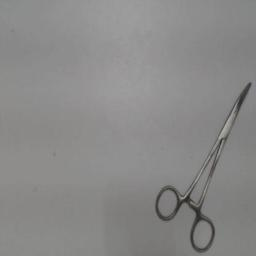Crile Artery Forceps: (153, 76, 255, 256)
